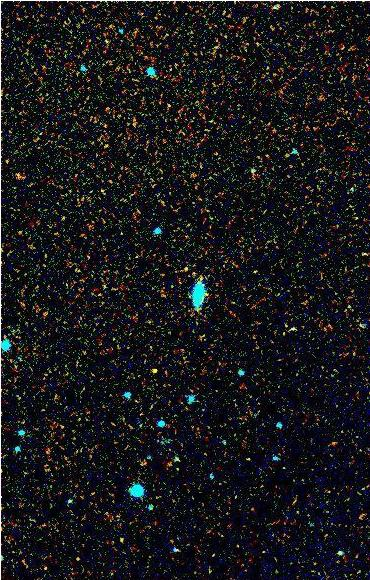star: (140, 355, 170, 385)
